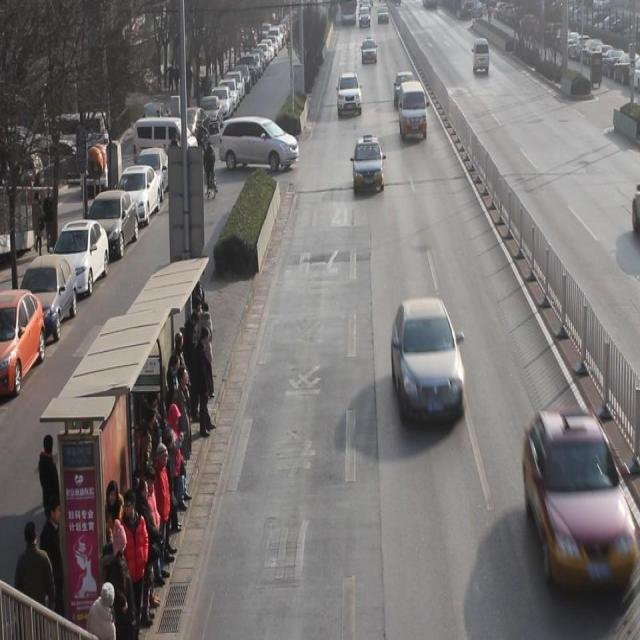car: (525, 409, 630, 604), (392, 298, 467, 432), (353, 137, 385, 195), (337, 73, 363, 119), (393, 76, 418, 115)
truck: (399, 81, 428, 141), (473, 39, 490, 77)
